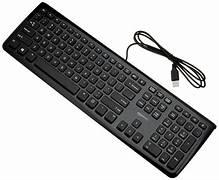keyboard: (2, 1, 216, 177)
